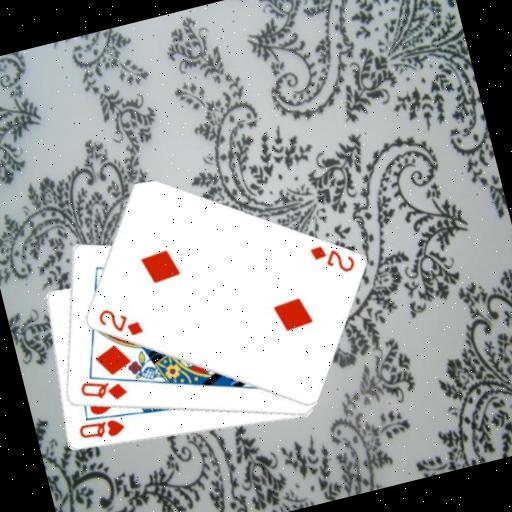2D: (93, 298, 146, 345), (305, 235, 358, 282)
QD: (75, 370, 131, 410)
QH: (74, 413, 128, 447)
